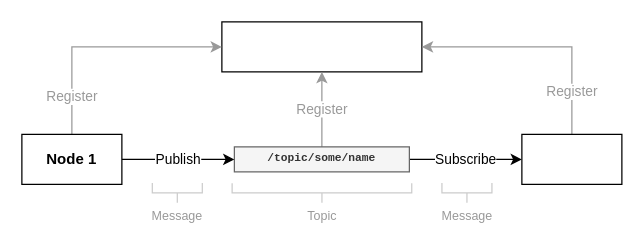
The diagram is 644 pixels wide and 250 high, and some of its shapes have lost their labels. Each missing label, with the centre of its shape:
Node 2: the point at 571,158
ROS Master: the point at 321,46
